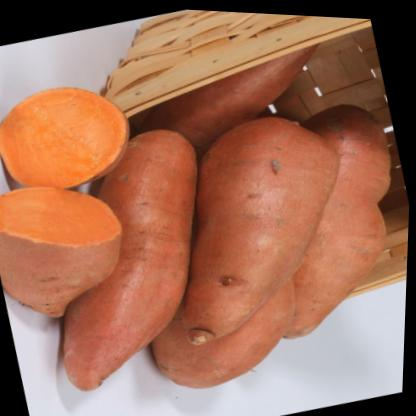---: (5, 109, 262, 404), (138, 94, 392, 357), (0, 163, 141, 332), (0, 67, 147, 210)
